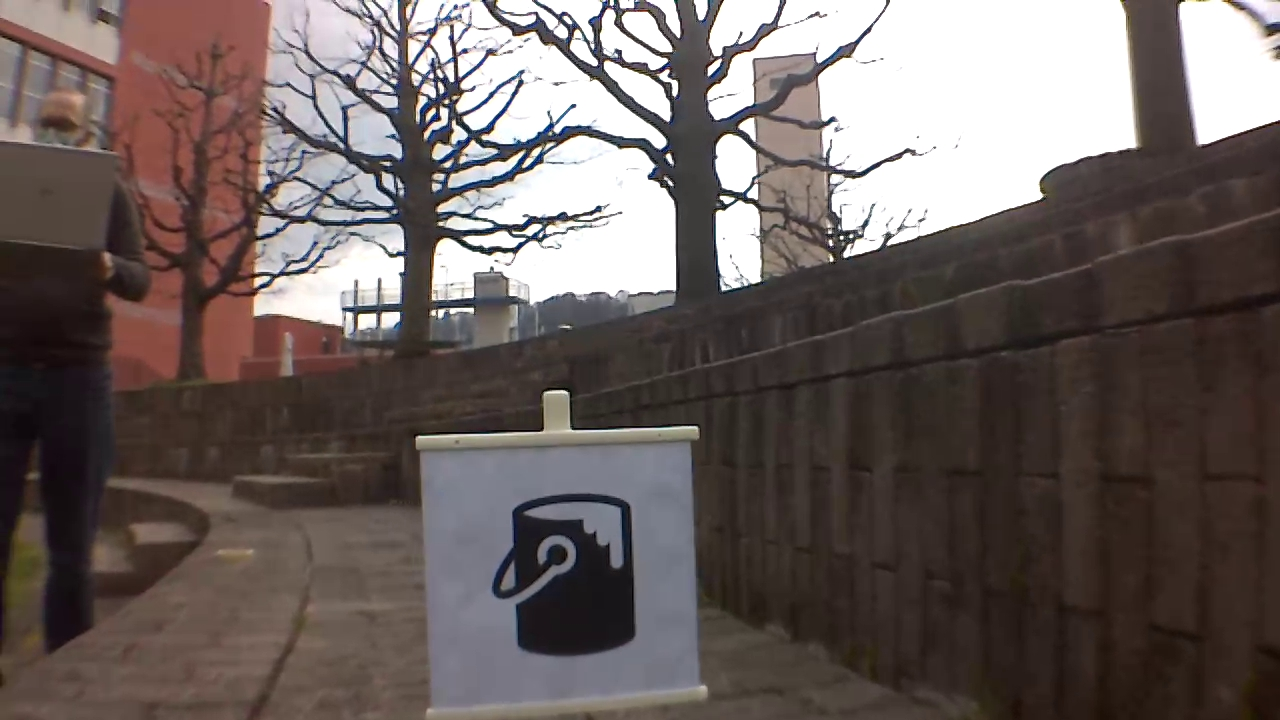bucket: (486, 488, 634, 664)
